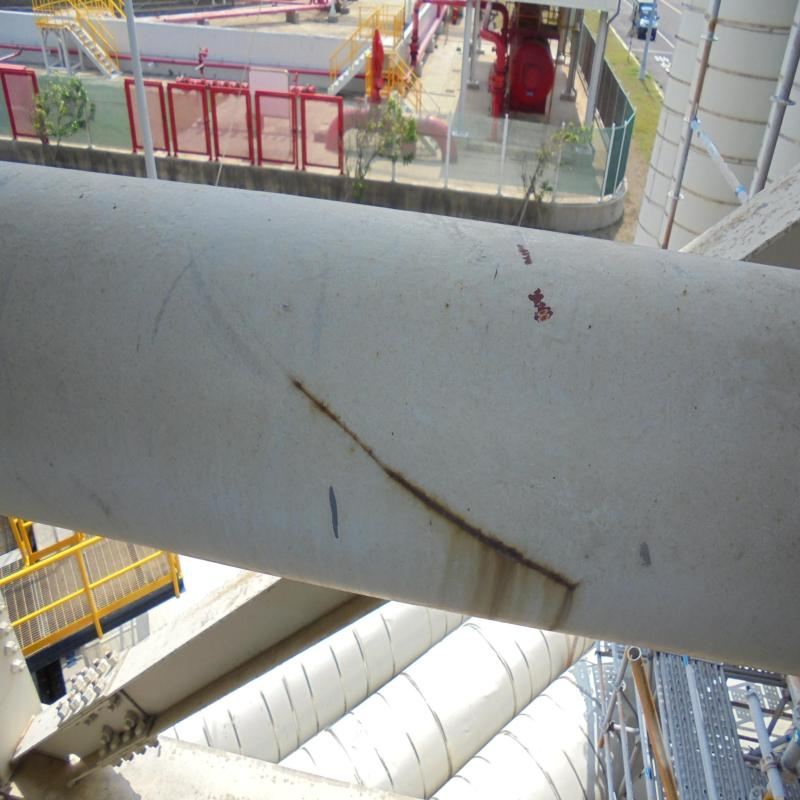Fracture: (480, 510, 582, 593)
